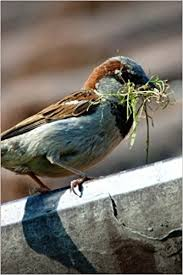hsparrow: (2, 54, 157, 201)
